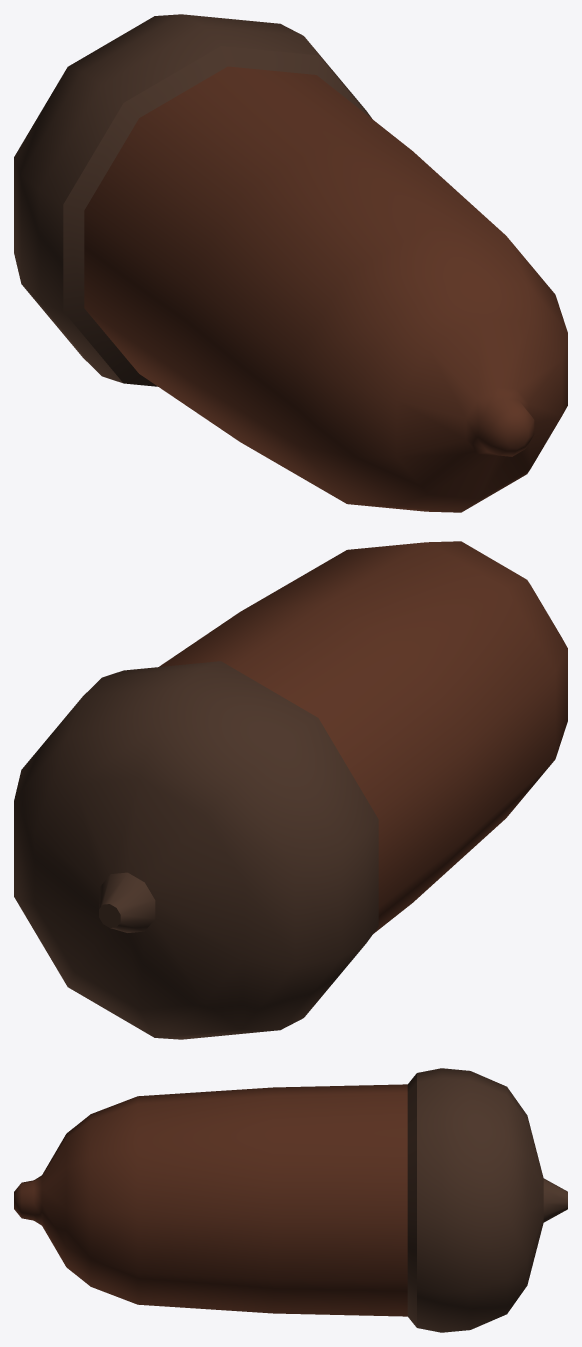
File: Acorn_02.fbx
3 views of the same model, one above another, from view 1: azimuth 30°, elevation 25°; view 2: azimuth 150°, elevation 25°; view 3: azimuth 270°, elevation 25° (orthographic). The views are drawn at different scales.
Visible parts, largest first — view 1: Acorn_02; view 2: Acorn_02; view 3: Acorn_02.
Boxes of the visible parts, x1,y1,x2,y2 form: Acorn_02: [14, 14, 567, 512]; Acorn_02: [14, 541, 567, 1039]; Acorn_02: [14, 1068, 567, 1332].
Bounding box in the file's own units: 0.0485 × 0.051 × 0.1048.
